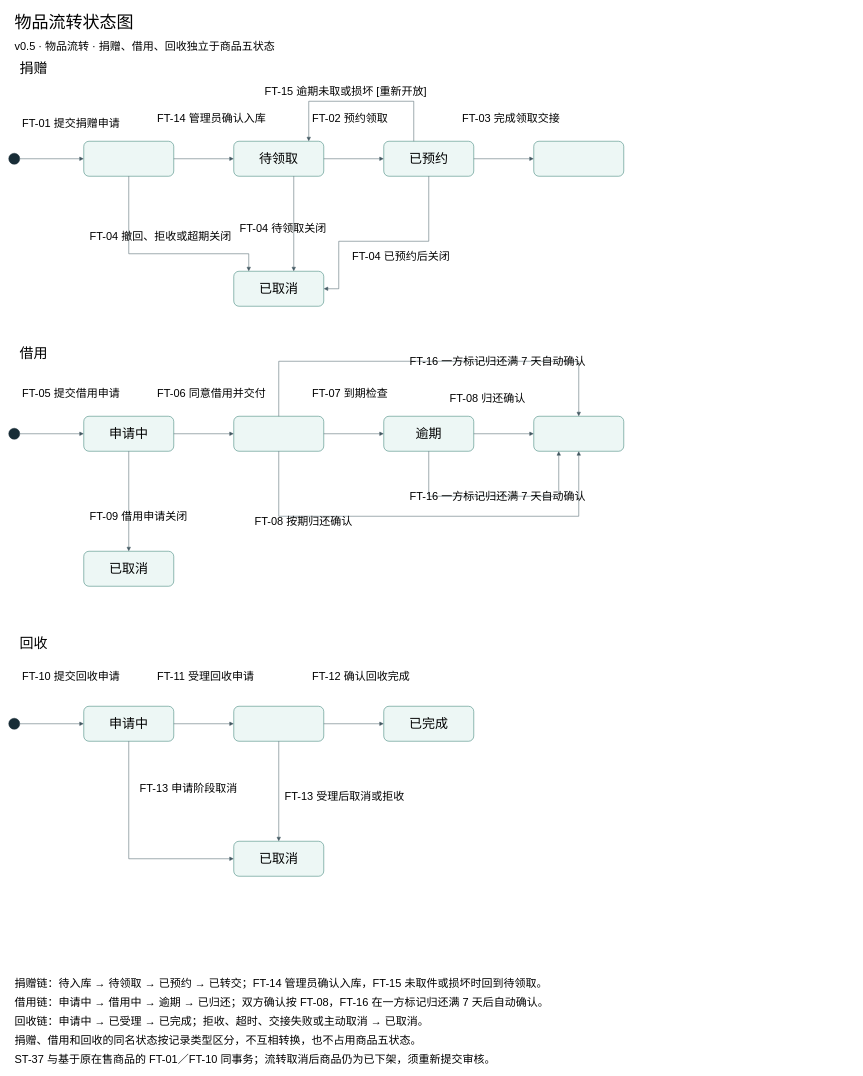
Image size: 863x1076. Some labels were removed from this diagram. Here are the shapes that lost their labels. From the top down, the centre of each, then its label:
At pixel 128 158: "待入库".
At pixel 578 158: "已转交".
At pixel 278 433: "借用中".
At pixel 578 433: "已归还".
At pixel 278 723: "已受理".
